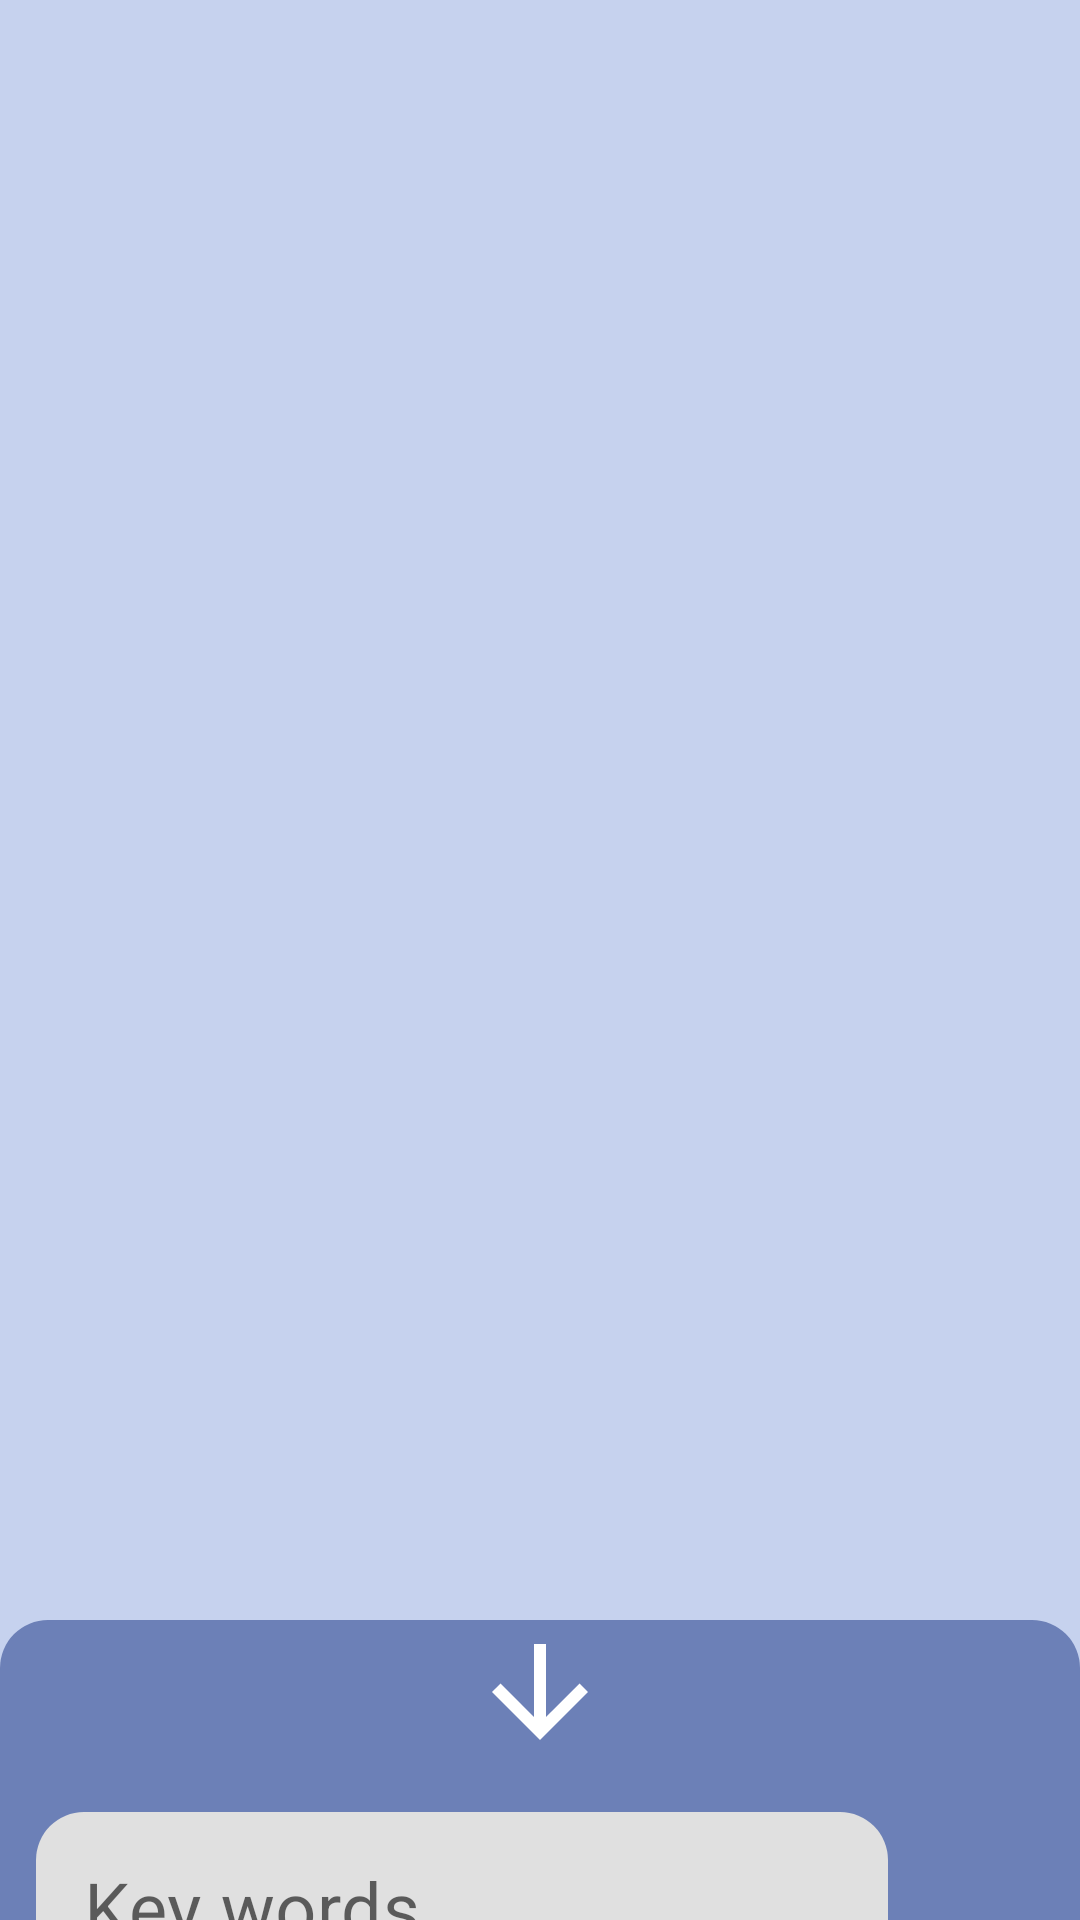

Icons on this 1080×1920 Android screen, each with its box as (x1, y1, x2, y2):
arrow downward: (492, 1644, 588, 1740)
